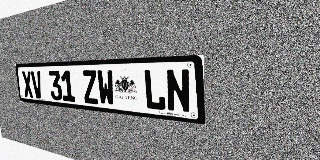1: (60, 70, 75, 102)
3: (48, 71, 63, 101)
L: (143, 69, 166, 111)
N: (165, 69, 191, 114)
V: (31, 71, 43, 99)
W: (96, 70, 115, 106)
X: (21, 71, 34, 98)
Z: (82, 70, 99, 104)
